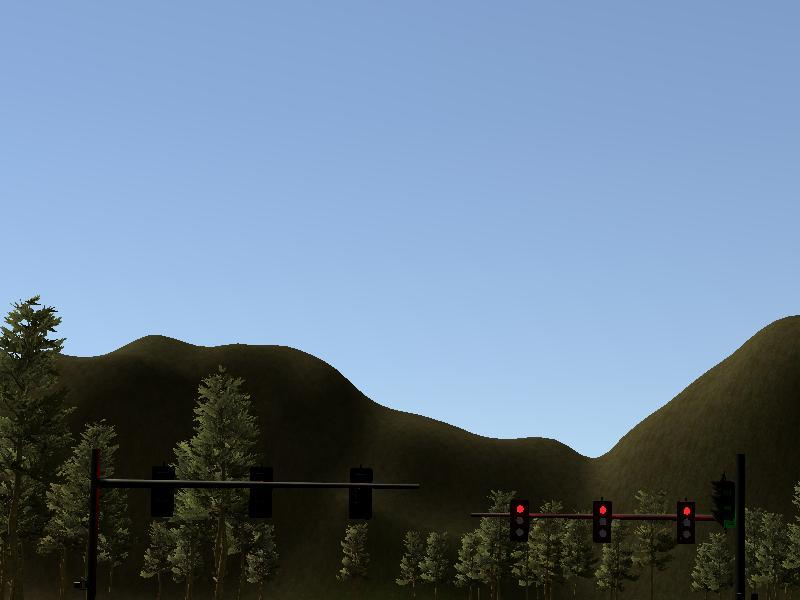Red: (509, 500, 530, 541), (592, 502, 612, 543), (678, 501, 695, 543)
